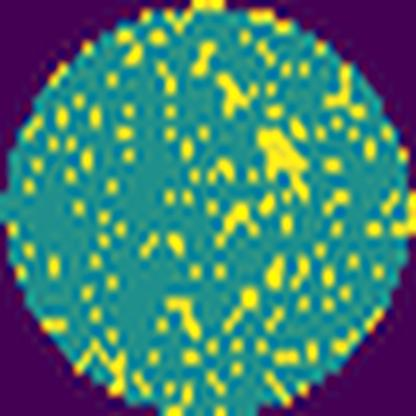Edge-Loc: (258, 126, 311, 200), (211, 200, 264, 249), (217, 70, 259, 119)
